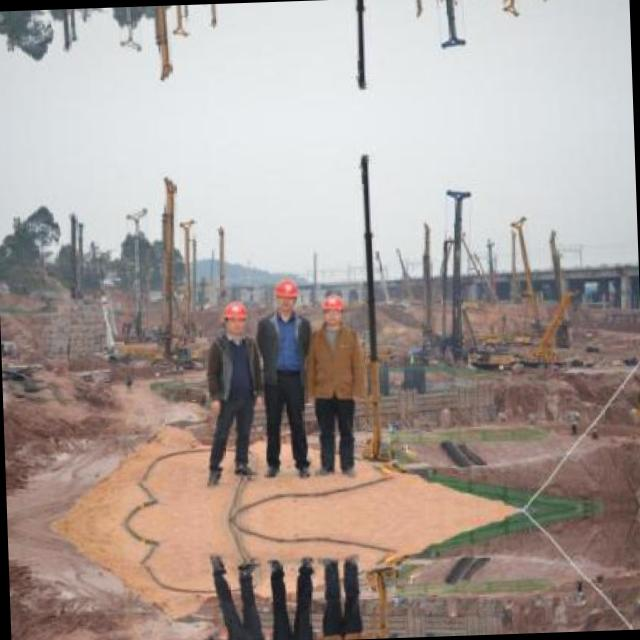helmet: (220, 298, 250, 336), (270, 276, 300, 314), (318, 291, 348, 329)
